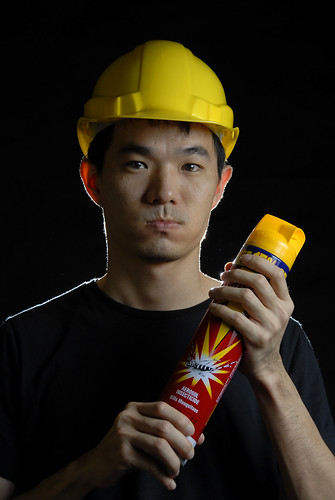person hardhat: (6, 28, 329, 500)
